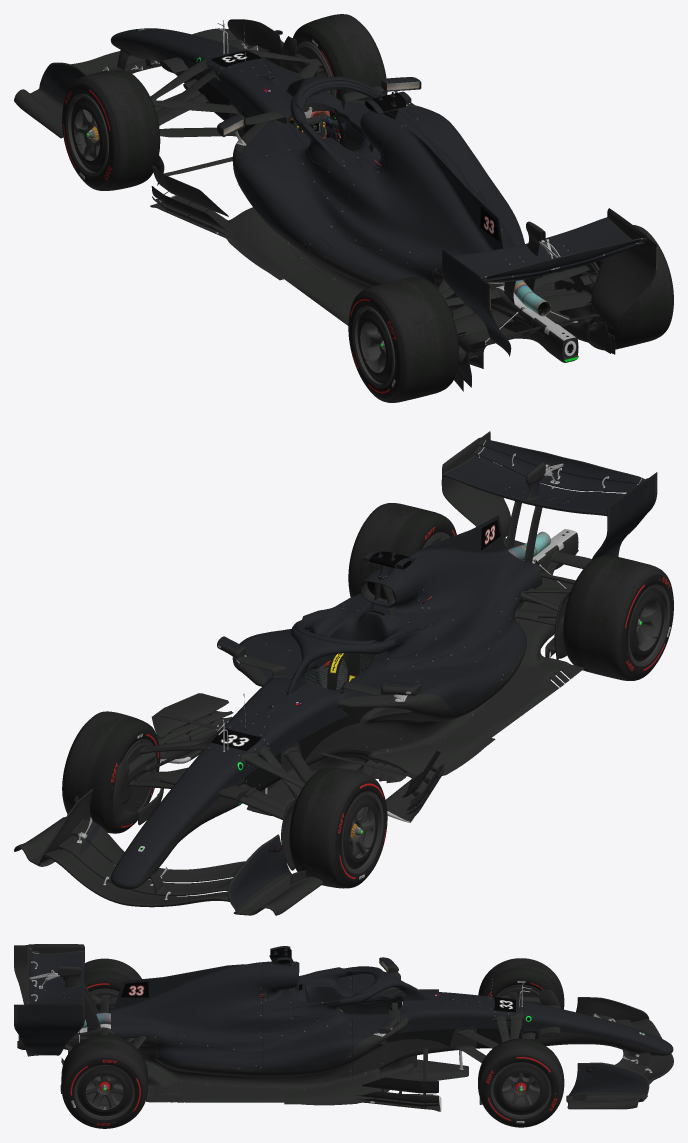
Rendered from hero.glb.
The picture shows the model from 3 angles, top to bottom: view 1: azimuth 30°, elevation 25°; view 2: azimuth 150°, elevation 25°; view 3: azimuth 270°, elevation 25°; orthographic projection. The views are drawn at different scales.
Parts seen in each view (by area): view 1: f1_2026_w17, wheel_RL_geo, wheel_FL_geo, wheel_FR_geo, wheel_RR_geo, wheel_FR_upright; view 2: f1_2026_w17, wheel_RL_geo, wheel_FL_geo, wheel_FR_geo, wheel_RR_geo, wheel_FR_upright; view 3: f1_2026_w17, wheel_RR_geo, wheel_FR_geo, wheel_FL_geo, wheel_RL_geo, wheel_FL_upright.
Part boxes in pixels (x1,y1,x2,y2): f1_2026_w17: (14,19,657,391); wheel_RL_geo: (348,277,458,402); wheel_FL_geo: (62,70,160,190); wheel_FR_geo: (293,14,387,100); wheel_RR_geo: (589,225,673,350); wheel_FR_upright: (281,36,333,95); f1_2026_w17: (14,431,657,915); wheel_RL_geo: (563,555,673,680); wheel_FL_geo: (289,767,387,888); wheel_FR_geo: (62,711,160,833); wheel_RR_geo: (348,503,456,597); wheel_FR_upright: (111,743,163,827); f1_2026_w17: (14,944,673,1111); wheel_RR_geo: (61,1035,147,1128); wheel_FR_geo: (478,1038,564,1127); wheel_FL_geo: (478,958,564,1009); wheel_RL_geo: (84,958,141,994); wheel_FL_upright: (500,987,560,1008).
Bounding box in the file's own units: 1.92 × 1.2 × 5.39.
22 materials, 17 textured.
